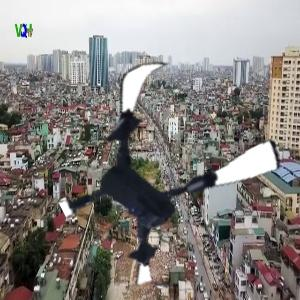drone: (57, 61, 279, 283)
